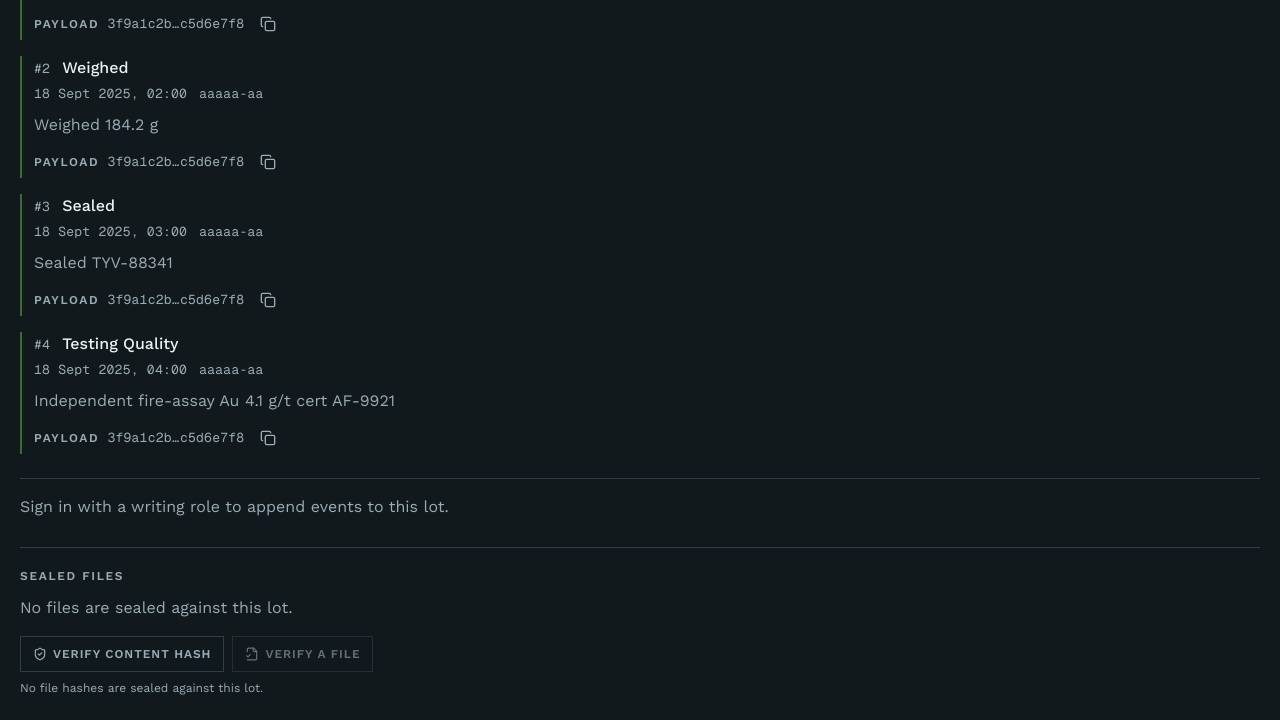
Scenario: Expanded lot block › reports an unavailable snapshot rather than a false match
The width and height of the screenshot is (1280, 720).
(page scrolled)
Click the button with test id "lot.verify_snapshot_button" at {"x": 122, "y": 654}, box 20,636 -> 224,672
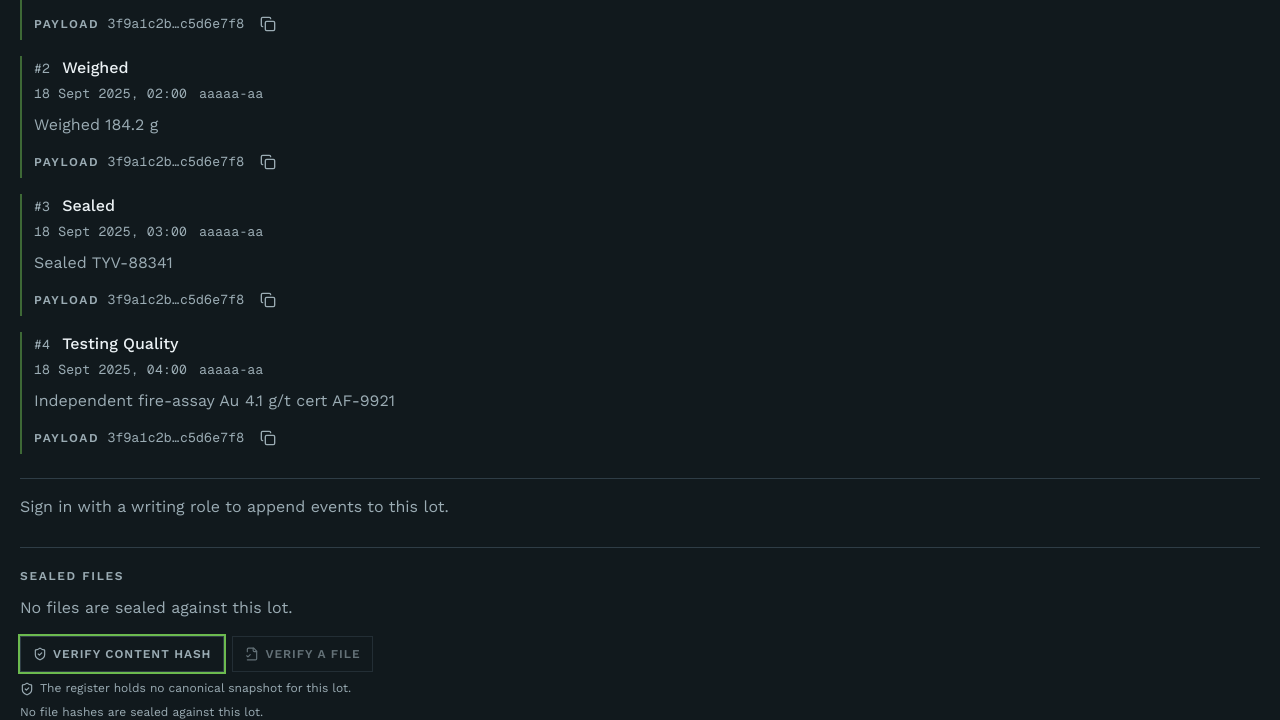
Now the element with test id "lot.verify_snapshot_state" shows "no canonical snapshot for this lot", box 40,681 -> 351,695
